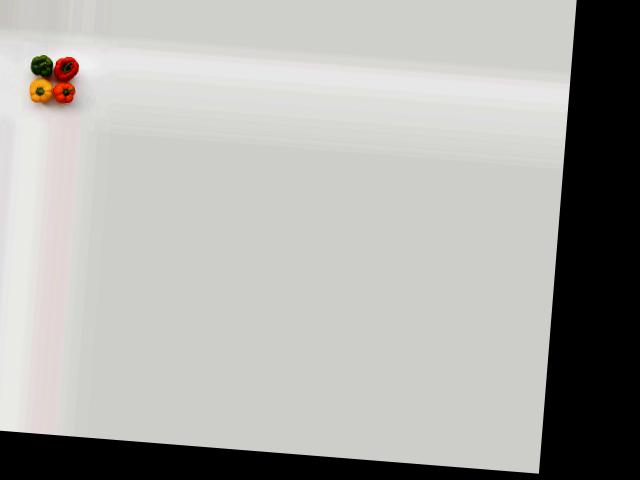bell_pepper: (23, 52, 59, 80)
